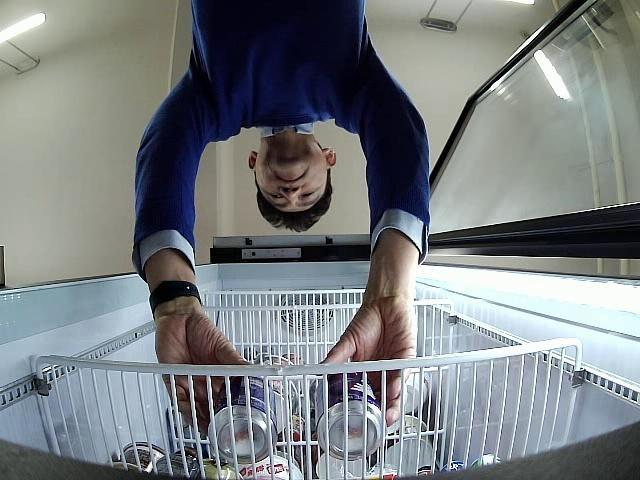14_welchsGrape: (316, 374, 388, 461), (208, 376, 276, 464)
